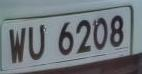0: (91, 13, 111, 54)
2: (73, 17, 93, 54)
6: (56, 17, 77, 61)
8: (108, 11, 125, 51)
U: (26, 23, 49, 64)
W: (7, 24, 28, 67)
